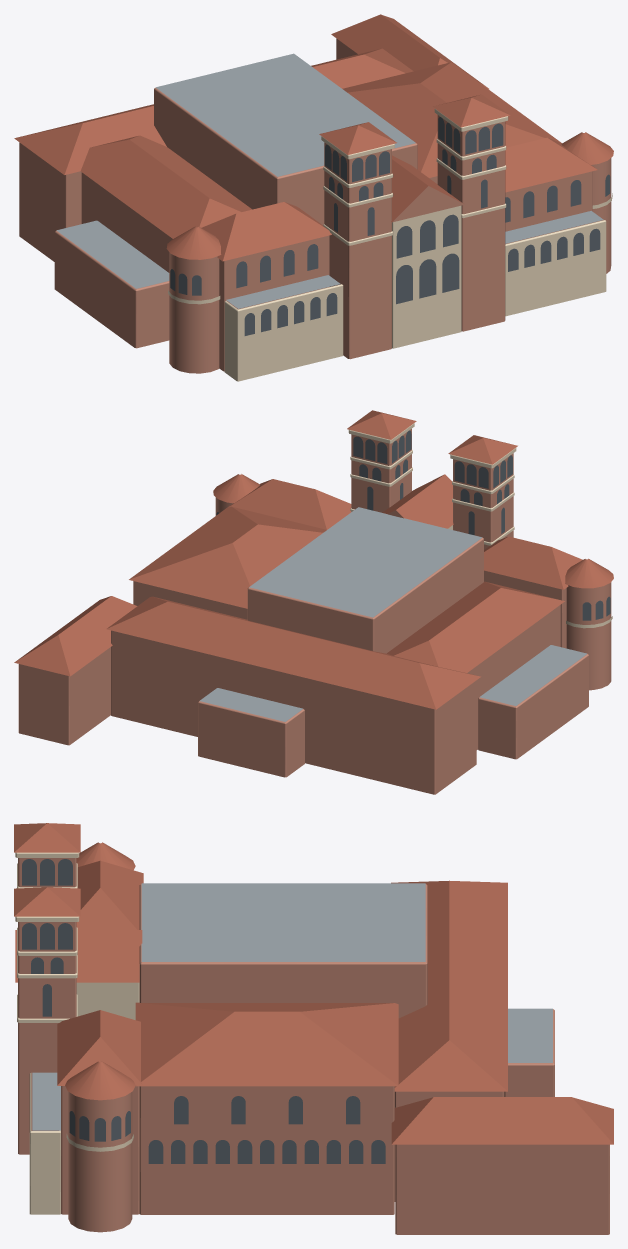
Rendered from la-royce-hall.glb.
3 renders of one model, top to bottom at view 1: azimuth 30°, elevation 25°; view 2: azimuth 150°, elevation 25°; view 3: azimuth 270°, elevation 25°, orthographic. The views are drawn at different scales.
Parts seen in each view (by area): view 1: Royce Hall; view 2: Royce Hall; view 3: Royce Hall.
Boxes of the visible parts, x1=… form: Royce Hall: x1=14, y1=14, x2=613, y2=381; Royce Hall: x1=14, y1=410, x2=613, y2=794; Royce Hall: x1=14, y1=823, x2=613, y2=1234.
Size of the model in its own units: 92.3 by 43 by 91.7.
